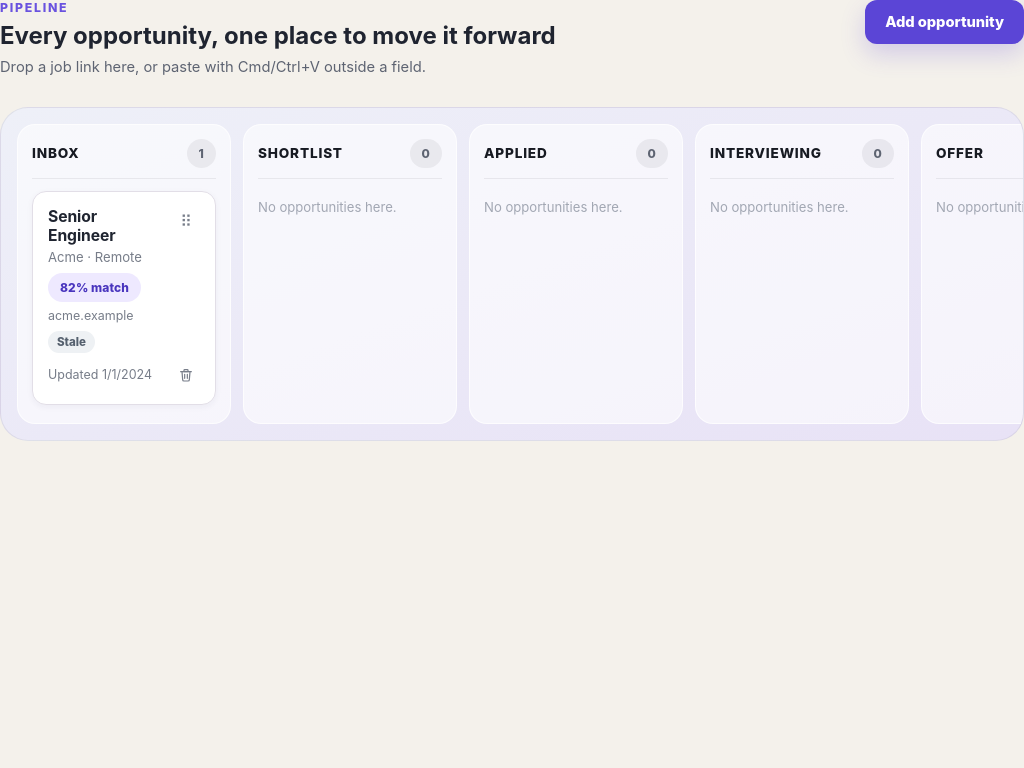
Scenario: dismissing an opportunity from the board › asks before dismissing, and explains that the row is kept
Step 1. Click the button named "Dismiss Senior Engineer" → point(186, 375), box [172,361,200,389]
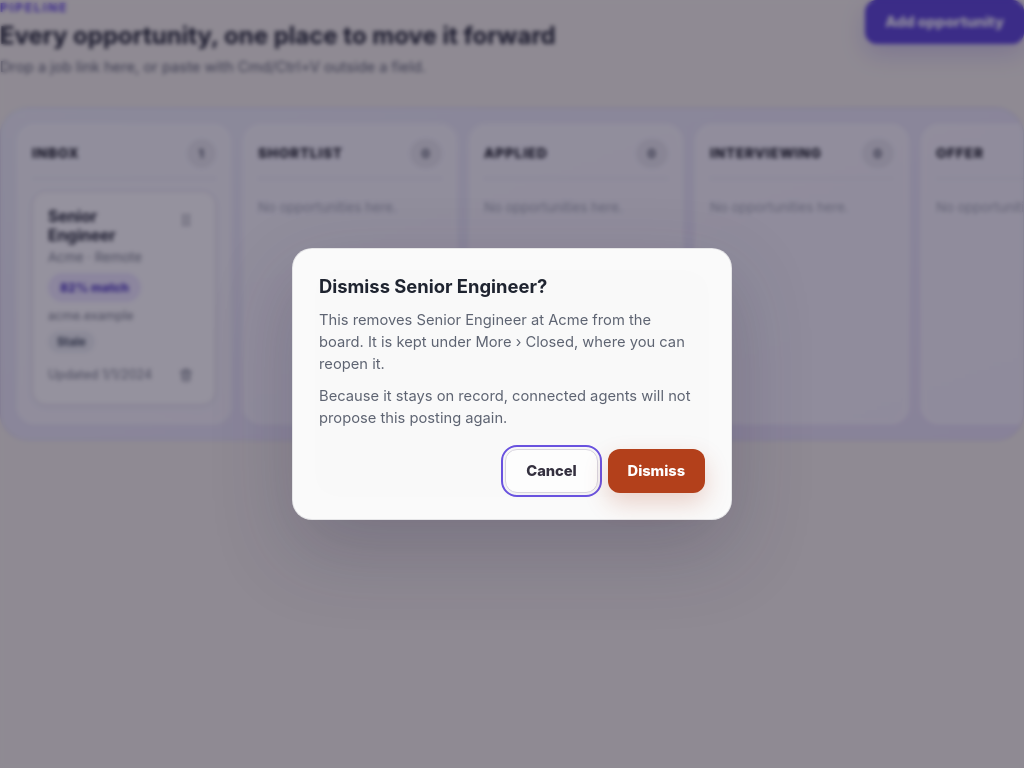
Check: the text "kept under More" is shown, box [319,311,685,373]
Check: the text "will not propose this posting again" is shown, box [319,387,690,427]
